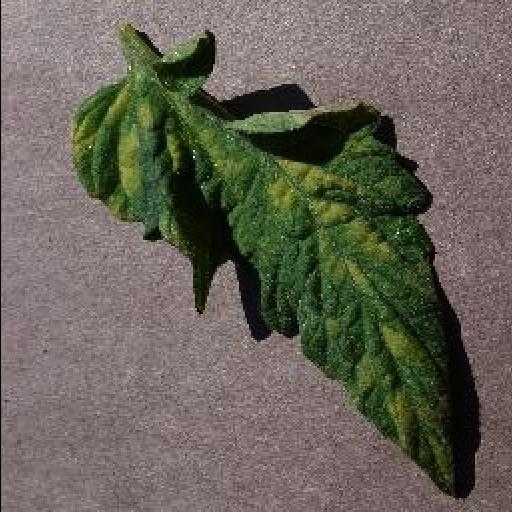disease_tomato: (66, 30, 460, 494)
